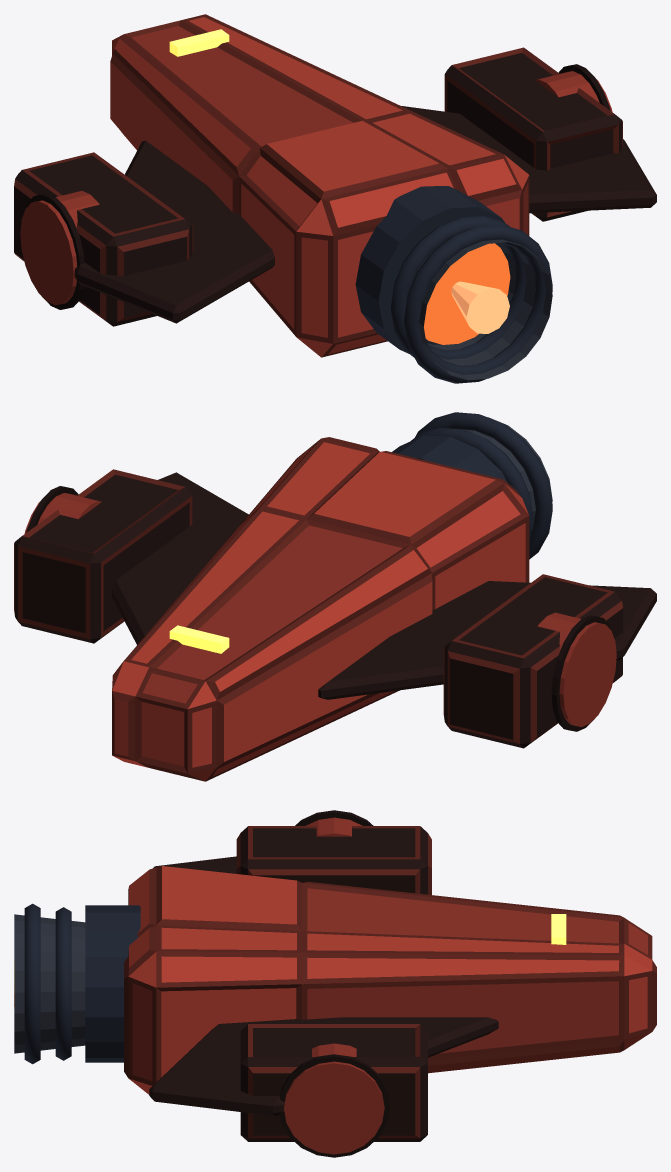
The model's file is swarmer.glb.
3 views of the same model, one above another, from view 1: azimuth 30°, elevation 25°; view 2: azimuth 150°, elevation 25°; view 3: azimuth 270°, elevation 25° (orthographic). The views are drawn at different scales.
Parts seen in each view (by area): view 1: swarmer_mesh; view 2: swarmer_mesh; view 3: swarmer_mesh.
Part boxes in pixels (bbox=[...]): swarmer_mesh: bbox=[14, 14, 656, 383]; swarmer_mesh: bbox=[14, 412, 656, 781]; swarmer_mesh: bbox=[14, 810, 656, 1157].
Size of the model in its own units: 3.18 by 1 by 3.44.
